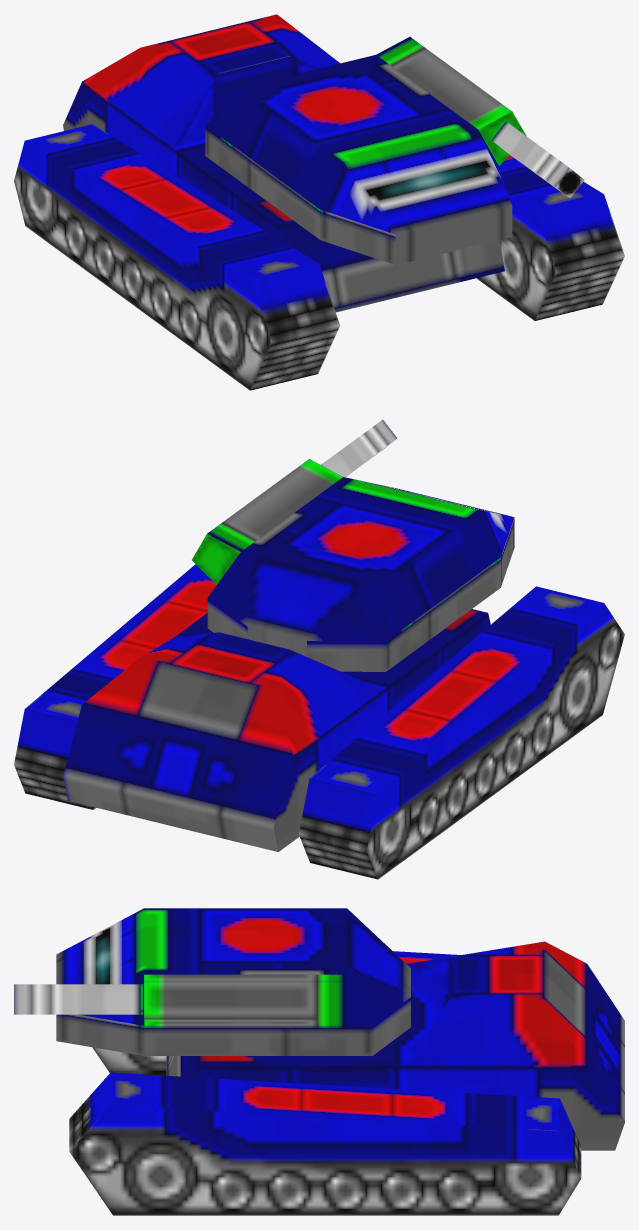
File: vedette.glb
3 views of the same model, one above another, from view 1: azimuth 30°, elevation 25°; view 2: azimuth 150°, elevation 25°; view 3: azimuth 270°, elevation 25° (orthographic).
Visible parts, largest first — view 1: Vedette Body, Vedette Turret; view 2: Vedette Body, Vedette Turret; view 3: Vedette Body, Vedette Turret.
Part boxes in pixels (x1,y1,x2,y2): Vedette Body: (14, 14, 624, 390); Vedette Turret: (205, 36, 584, 264); Vedette Body: (14, 564, 624, 879); Vedette Turret: (192, 419, 514, 671); Vedette Body: (69, 941, 624, 1215); Vedette Turret: (14, 908, 410, 1055).
Bounding box in the file's own units: 4.79 × 2.6 × 7.25.
1 material, 1 textured.
